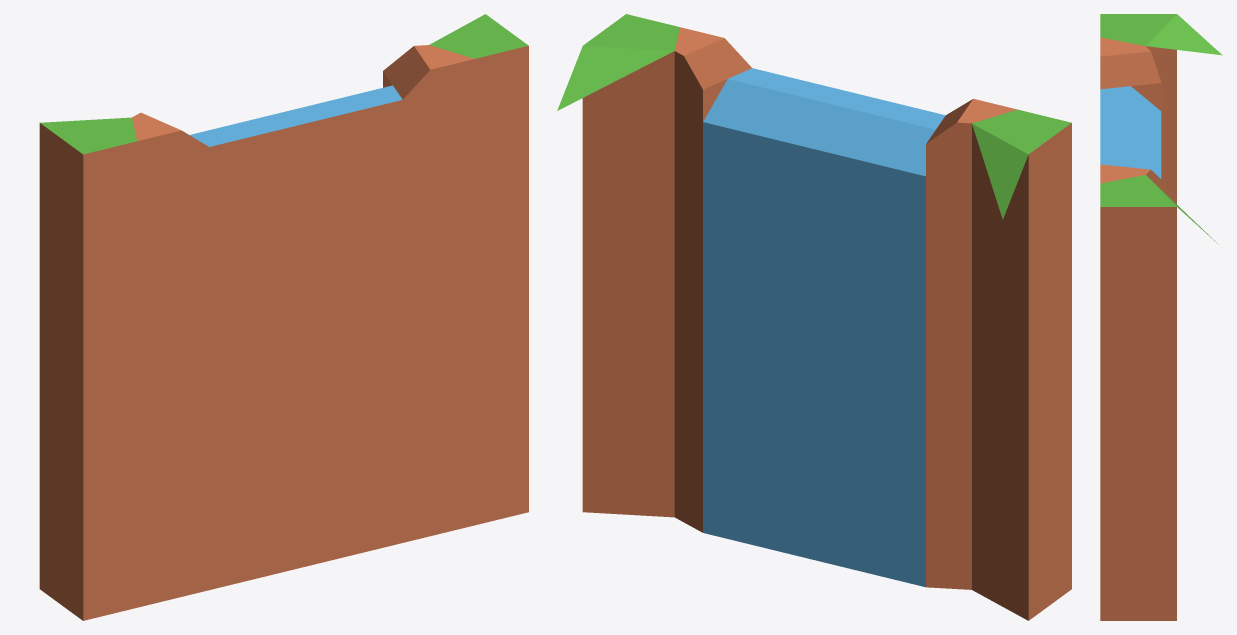
Rendered from cliff_waterfallTop_rock.glb.
3 renders of one model, left to right at view 1: azimuth 30°, elevation 25°; view 2: azimuth 150°, elevation 25°; view 3: azimuth 270°, elevation 25°, orthographic. The views are drawn at different scales.
Parts seen in each view (by area): view 1: cliff_waterfallTop_rock; view 2: cliff_waterfallTop_rock; view 3: cliff_waterfallTop_rock.
Boxes of the visible parts, x1,y1,x2,y2 form: cliff_waterfallTop_rock: (39,14,528,620); cliff_waterfallTop_rock: (557,14,1071,620); cliff_waterfallTop_rock: (1100,14,1222,620).
Bounding box in the file's own units: 1 × 1 × 0.2685.
